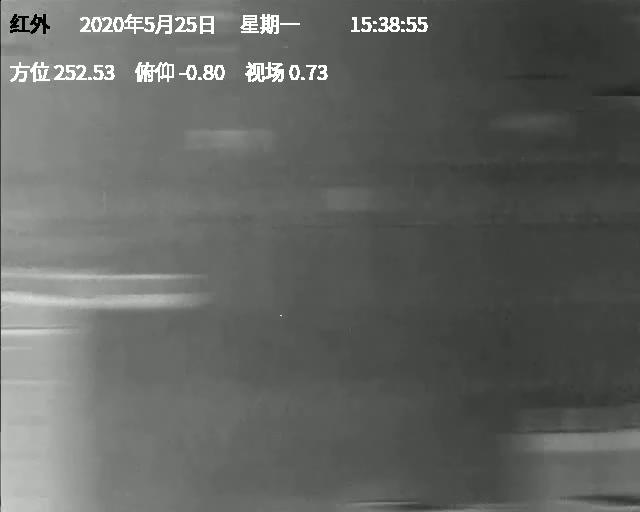uav: (274, 255, 285, 266)
